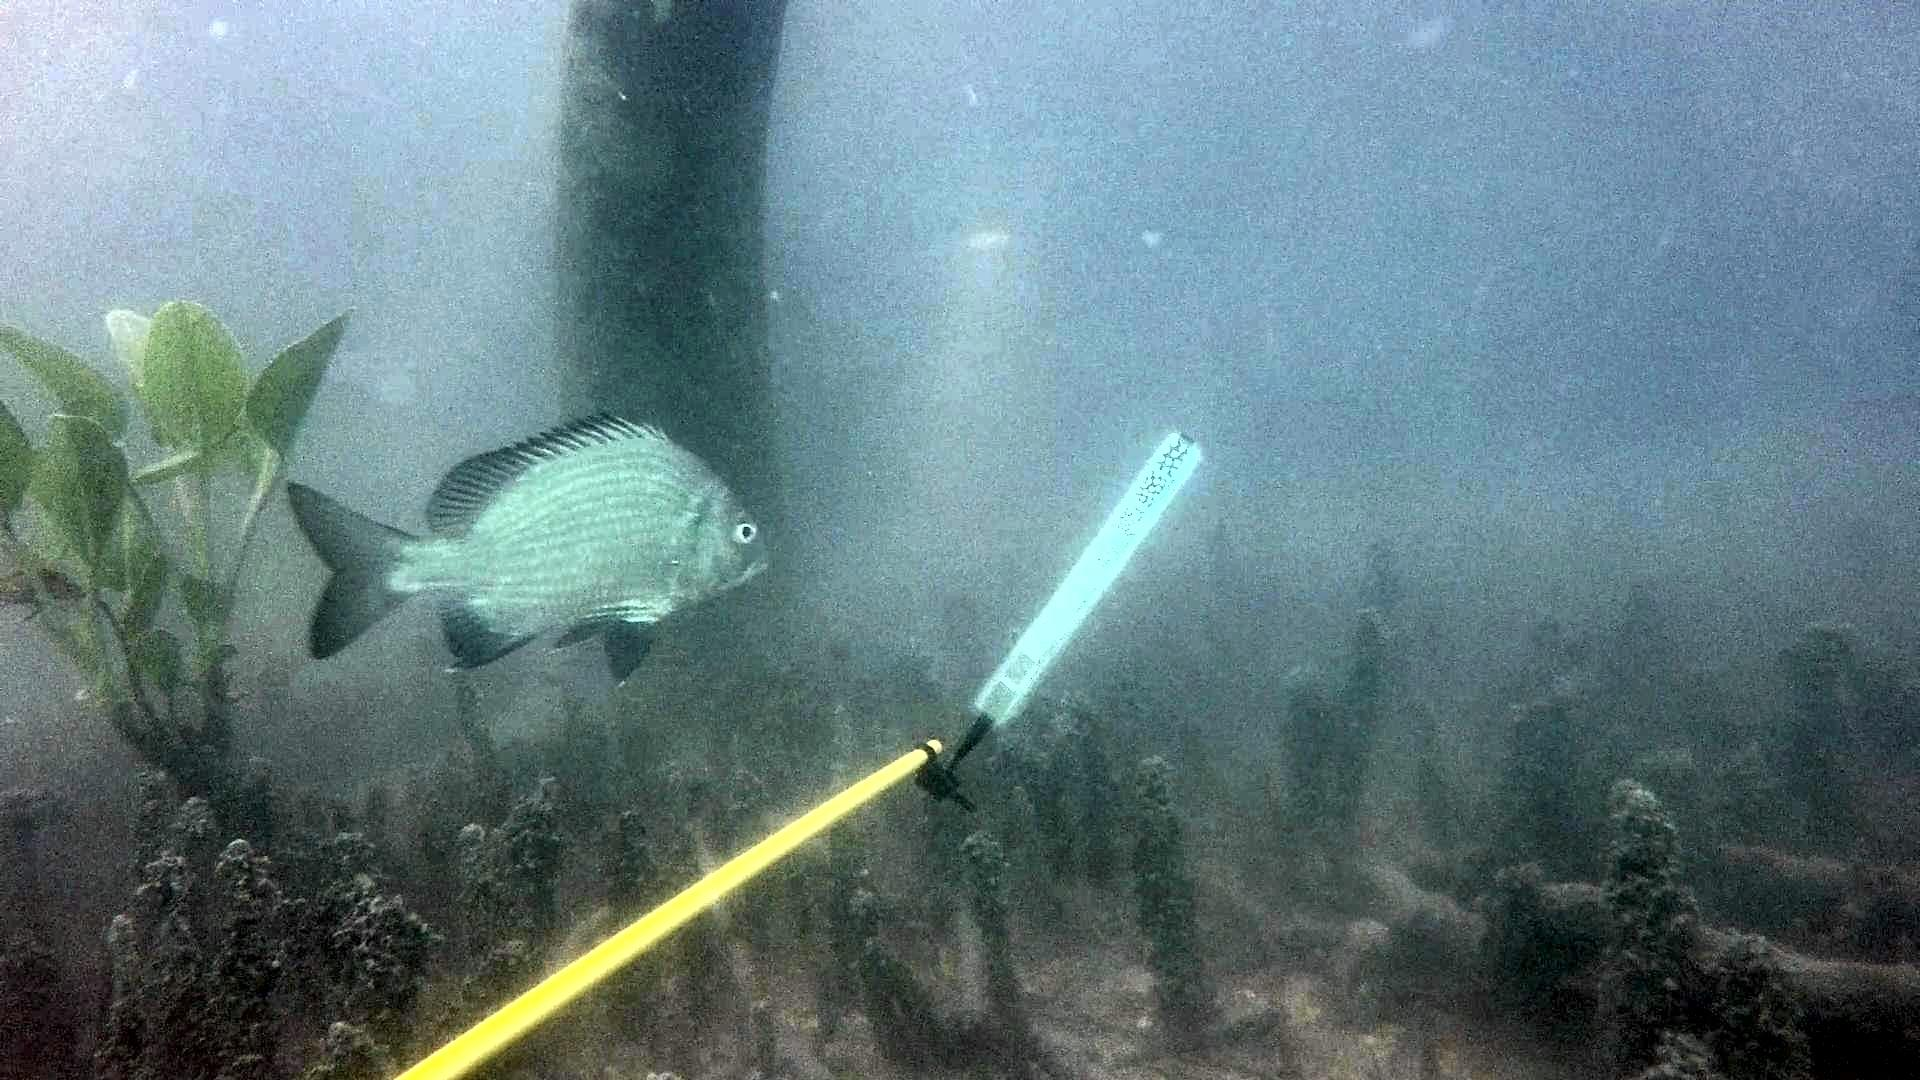acanthopagrus palmaris: (280, 404, 774, 694)
